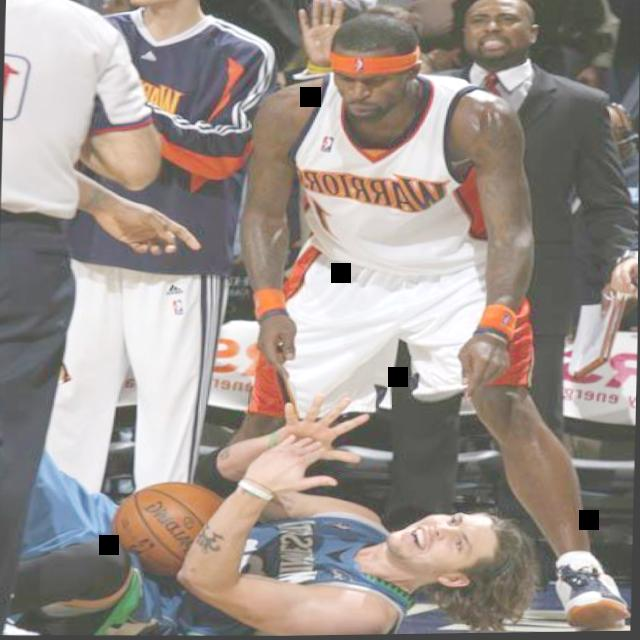Fall-Detected: (71, 400, 563, 639)
